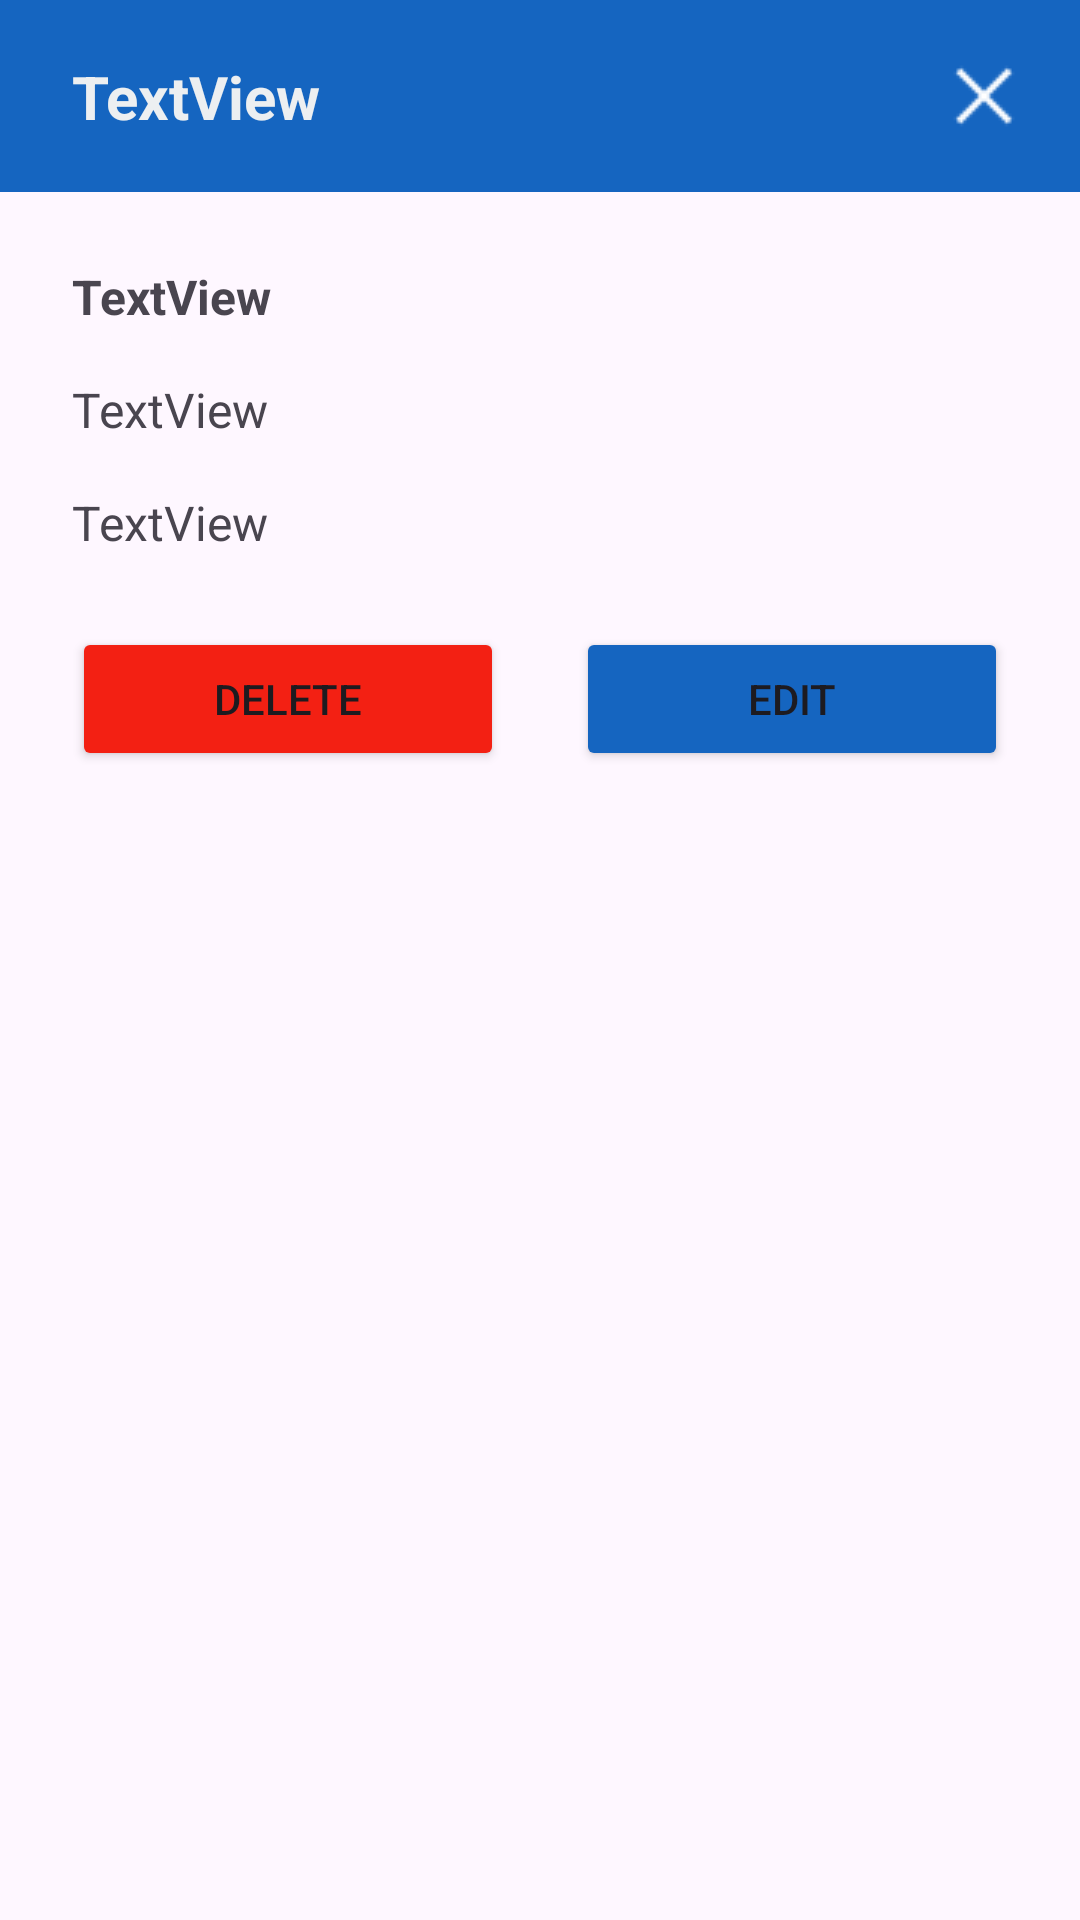

Named icons in this screenshot (1080×1920) and their bounding boxes, (x1, y1, x2, y2):
Close: (956, 68, 1012, 124)
